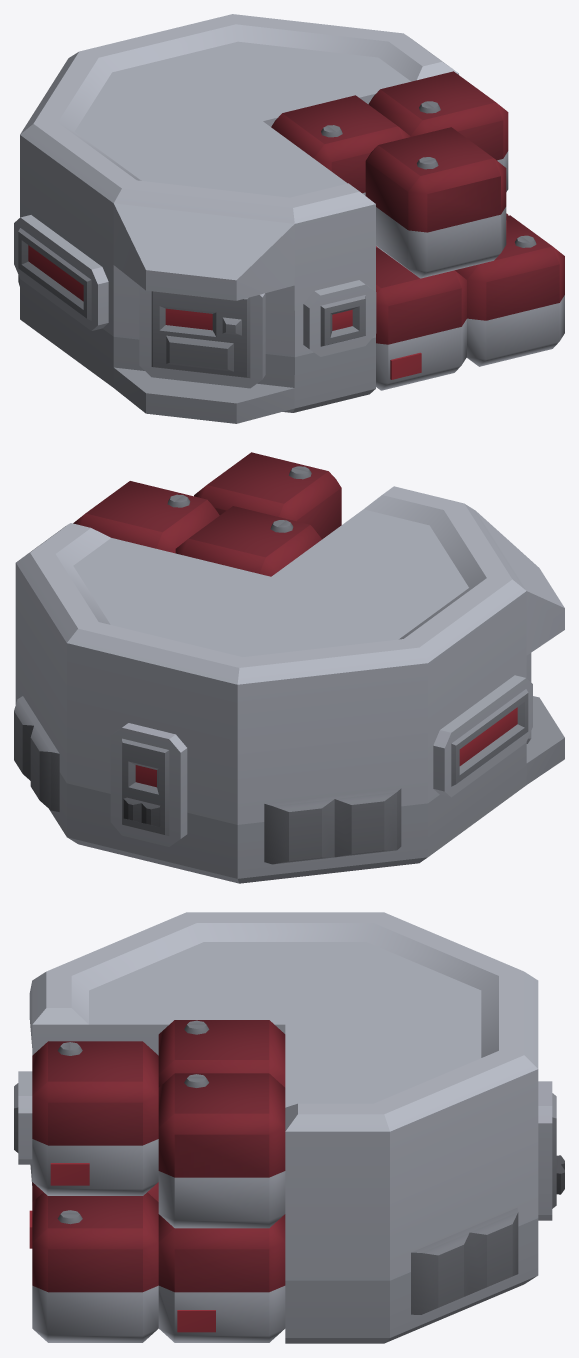
Rendered from cargodepot_B.glb.
3 renders of one model, top to bottom at view 1: azimuth 30°, elevation 25°; view 2: azimuth 150°, elevation 25°; view 3: azimuth 270°, elevation 25°, orthographic. The views are drawn at different scales.
Parts seen in each view (by area): view 1: cargodepot_B; view 2: cargodepot_B; view 3: cargodepot_B.
Part boxes in pixels (bbox=[...]): cargodepot_B: bbox=[14, 14, 564, 423]; cargodepot_B: bbox=[14, 452, 564, 883]; cargodepot_B: bbox=[14, 912, 564, 1343].
Bounding box in the file's own units: 2.08 × 1.02 × 2.18.
1 material, 1 textured.
